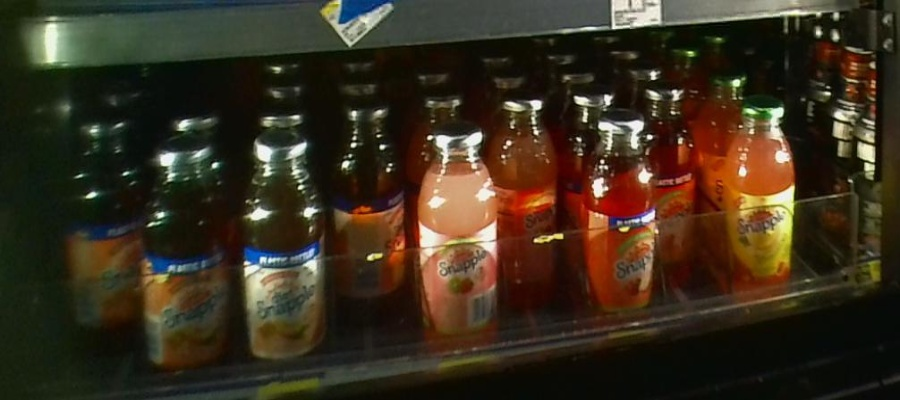bottle: (141, 133, 231, 386), (235, 125, 323, 383), (418, 116, 502, 352), (66, 110, 137, 350), (330, 99, 411, 308), (584, 114, 654, 319), (728, 97, 798, 300), (504, 91, 561, 301), (653, 73, 697, 296)
